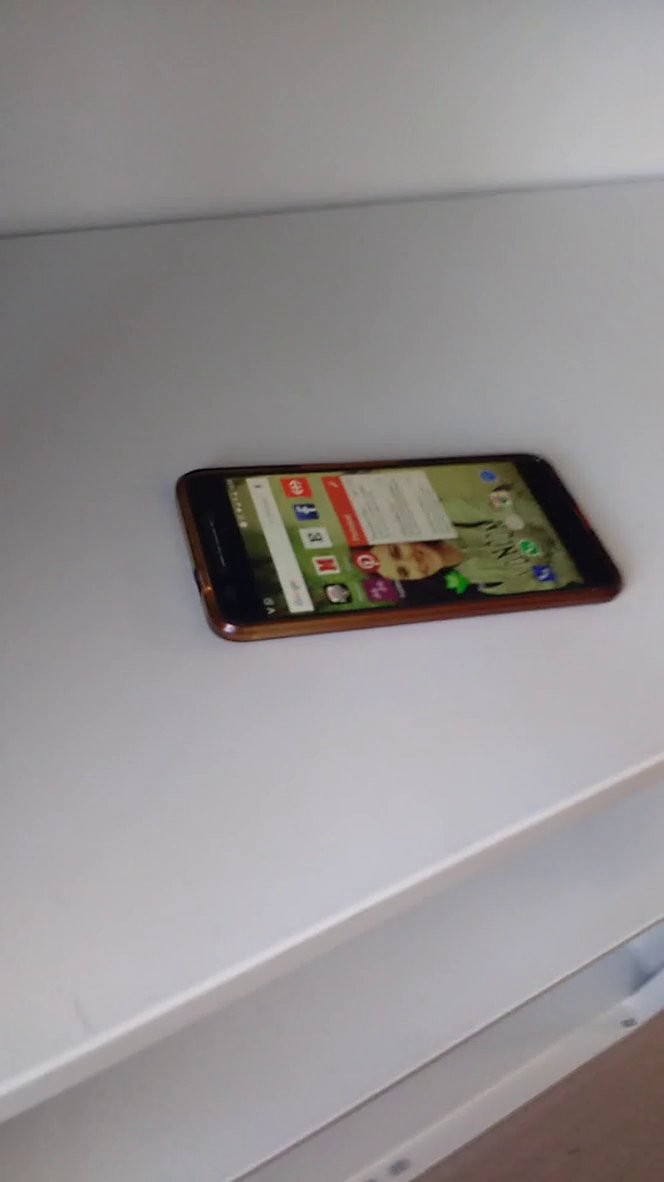phone: (155, 429, 644, 658)
